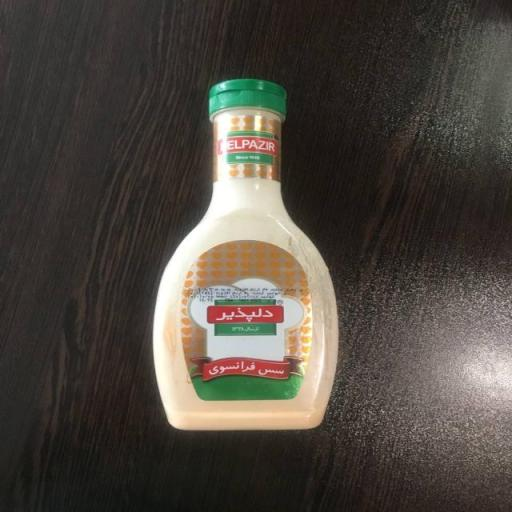plastic: (150, 76, 345, 434)
